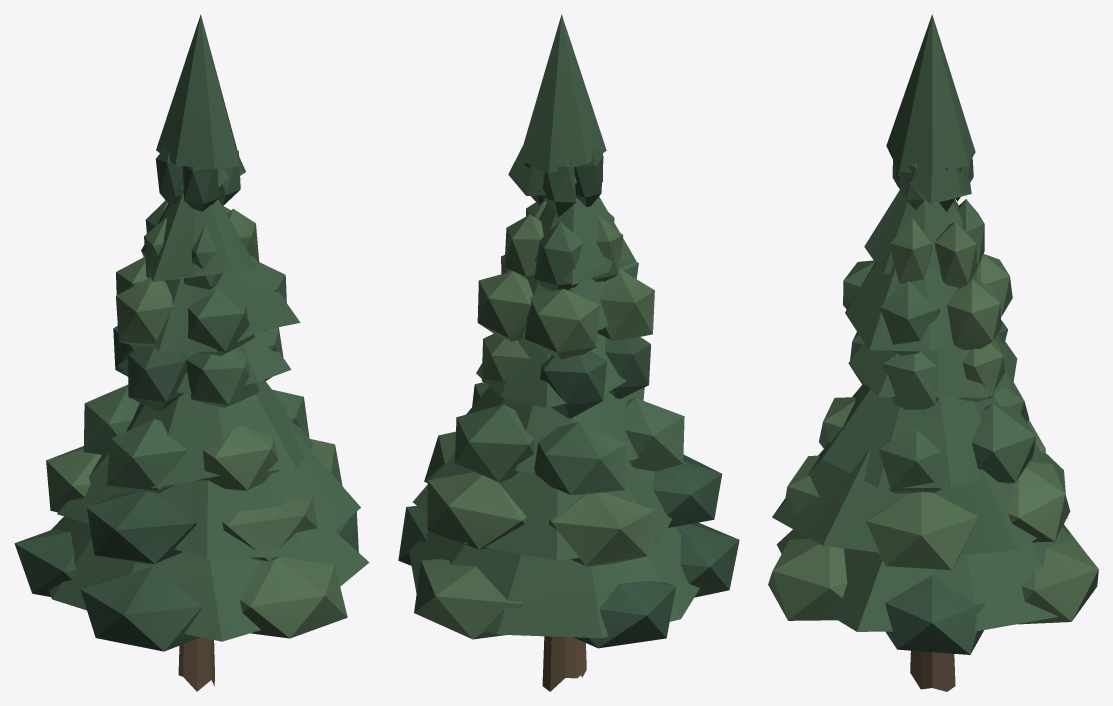
Rendered from SpruceYoung.glb.
The picture shows the model from 3 angles, left to right: view 1: azimuth 30°, elevation 25°; view 2: azimuth 150°, elevation 25°; view 3: azimuth 270°, elevation 25°; orthographic projection.
Visible parts, largest first — view 1: SpruceYoungVisual; view 2: SpruceYoungVisual; view 3: SpruceYoungVisual.
Part boxes in pixels (<box>): SpruceYoungVisual: <box>14,14,369,691</box>; SpruceYoungVisual: <box>398,14,739,691</box>; SpruceYoungVisual: <box>768,14,1098,691</box>.
Size of what is drawn, in the model's own units: 3.88 by 8.5 by 3.79.
